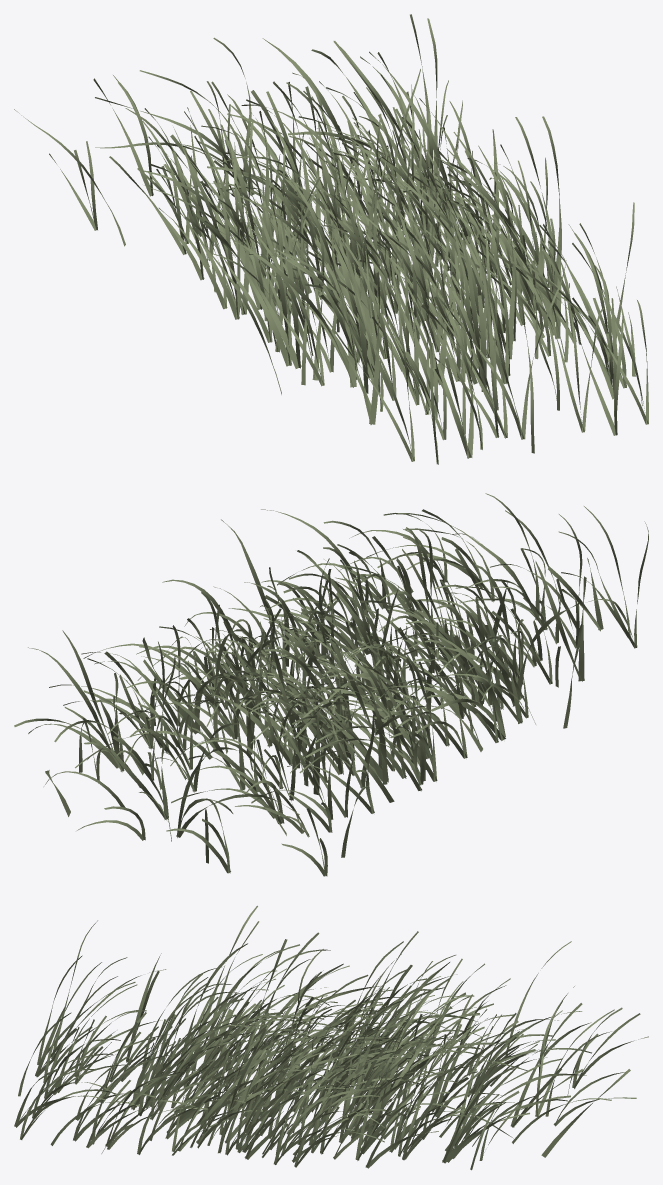
Rendered from Grass.fbx.
3 renders of one model, top to bottom at view 1: azimuth 30°, elevation 25°; view 2: azimuth 150°, elevation 25°; view 3: azimuth 270°, elevation 25°, orthographic. The views are drawn at different scales.
Parts seen in each view (by area): view 1: grassWindWide1Main; view 2: grassWindWide1Main; view 3: grassWindWide1Main.
Part boxes in pixels (box(x1,y1,x2,y2)): grassWindWide1Main: box(14, 14, 648, 464); grassWindWide1Main: box(14, 493, 648, 876); grassWindWide1Main: box(14, 905, 648, 1170).
Size of the model in its own units: 2.88 by 1.21 by 4.83.
